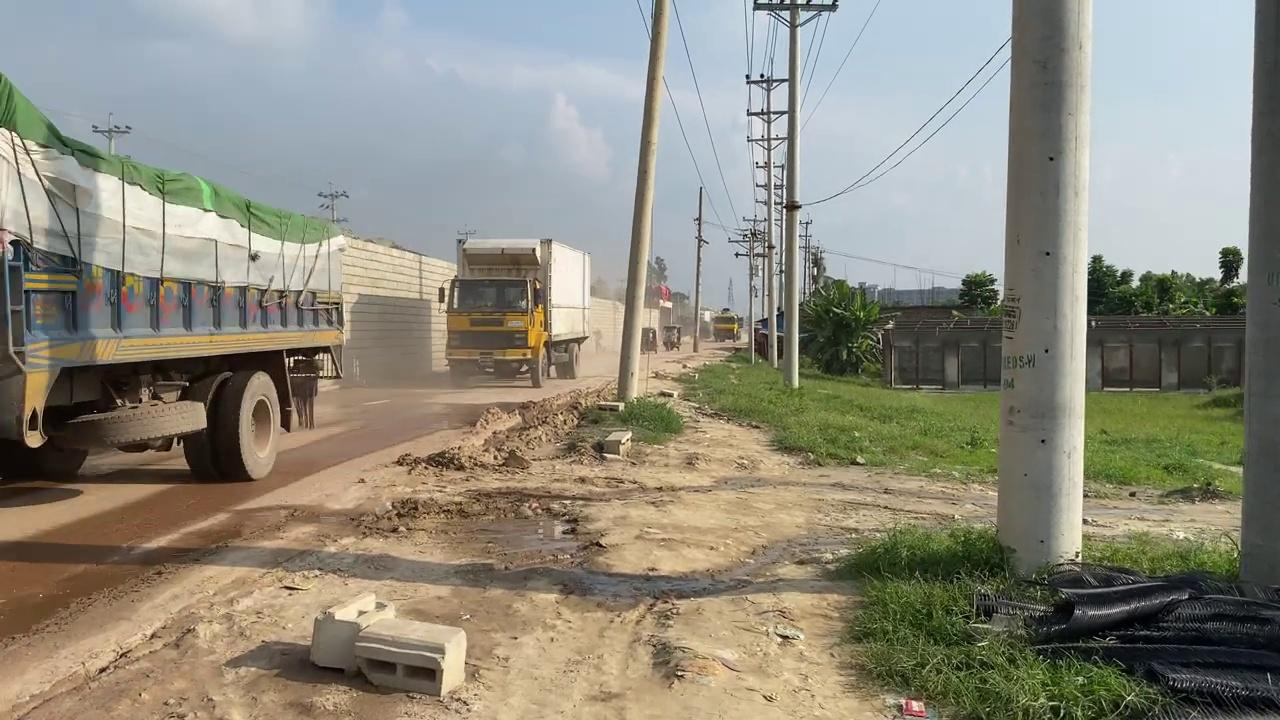Garbage: (973, 560, 1278, 717)
Obstacle: (353, 616, 467, 697), (308, 591, 395, 673), (308, 610, 359, 673), (602, 428, 632, 457)
Pole: (995, 0, 1092, 580), (1237, 1, 1279, 596), (616, 0, 671, 403), (780, 3, 802, 388)
Rickshaw: (1, 342, 1243, 718)
Traffic-sign: (796, 276, 889, 376), (956, 269, 1000, 316)
Tree: (0, 70, 347, 483), (437, 230, 591, 388), (711, 310, 739, 342)
